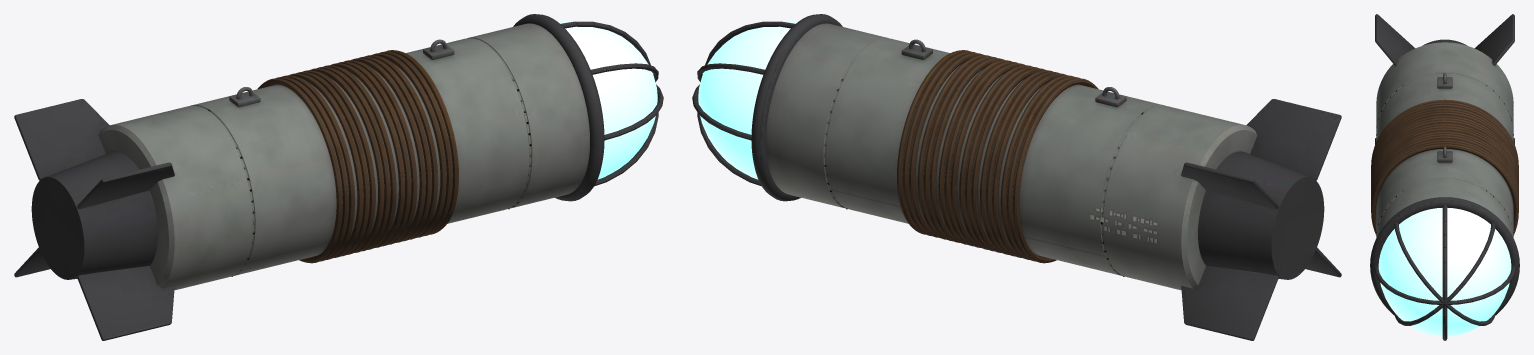
The model's file is exp_emp.glb.
3 renders of one model, left to right at view 1: azimuth 30°, elevation 25°; view 2: azimuth 150°, elevation 25°; view 3: azimuth 270°, elevation 25°, orthographic. The views are drawn at different scales.
Visible parts, largest first — view 1: exp_emp; view 2: exp_emp; view 3: exp_emp.
Boxes of the visible parts, x1=… form: exp_emp: x1=14, y1=14, x2=663, y2=340; exp_emp: x1=692, y1=14, x2=1341, y2=340; exp_emp: x1=1370, y1=14, x2=1519, y2=340.
Size of the model in its own units: 0.861 by 0.2522 by 0.24.
6 materials, 5 textured.
